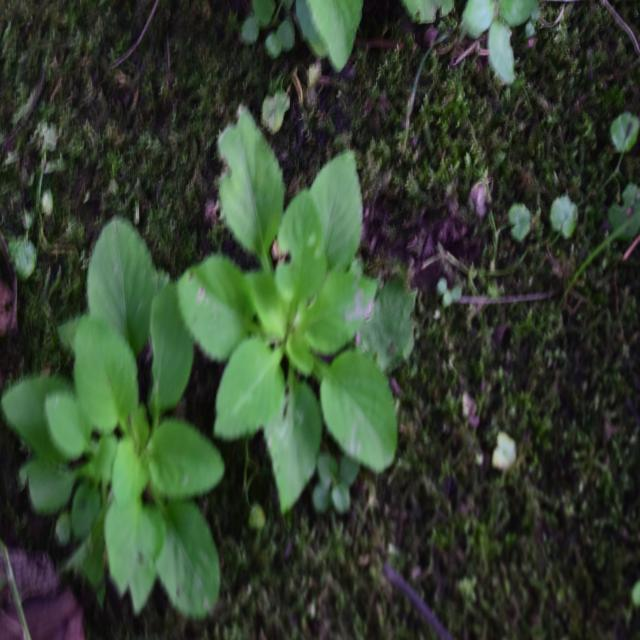Viola: (208, 147, 412, 510)
